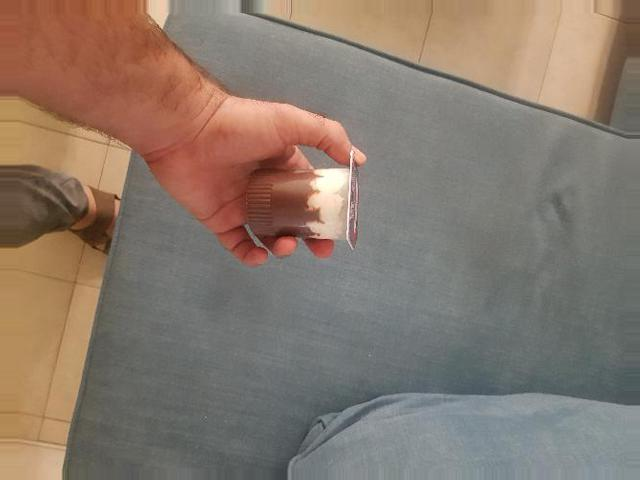milky: (317, 274, 404, 400)
